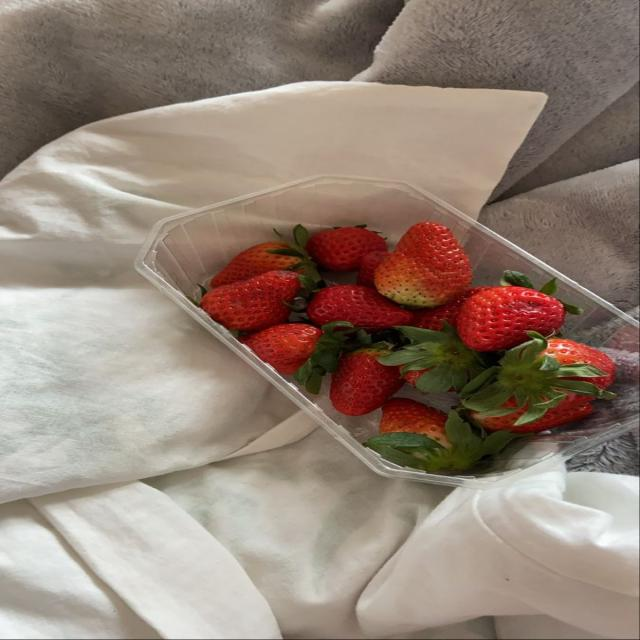strawberry: (461, 332, 614, 427), (365, 399, 521, 472), (457, 271, 582, 351), (375, 222, 472, 307), (381, 322, 485, 393), (457, 286, 566, 351), (211, 225, 320, 289), (201, 271, 299, 331), (295, 322, 372, 393), (330, 346, 403, 415), (307, 285, 412, 331), (470, 398, 592, 434), (240, 323, 322, 374), (211, 242, 300, 287), (544, 338, 616, 389), (307, 226, 386, 271), (380, 398, 450, 446), (413, 287, 489, 330), (357, 251, 389, 287)
